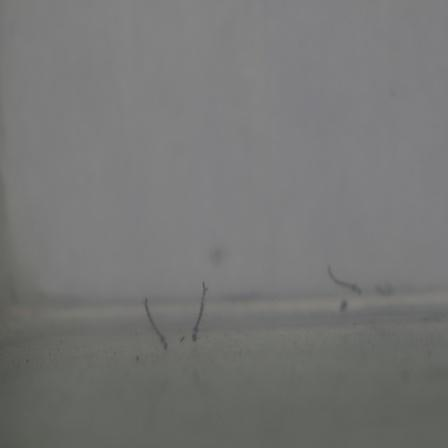Jentik-Nyamuk: (139, 293, 172, 355), (189, 282, 208, 343)
